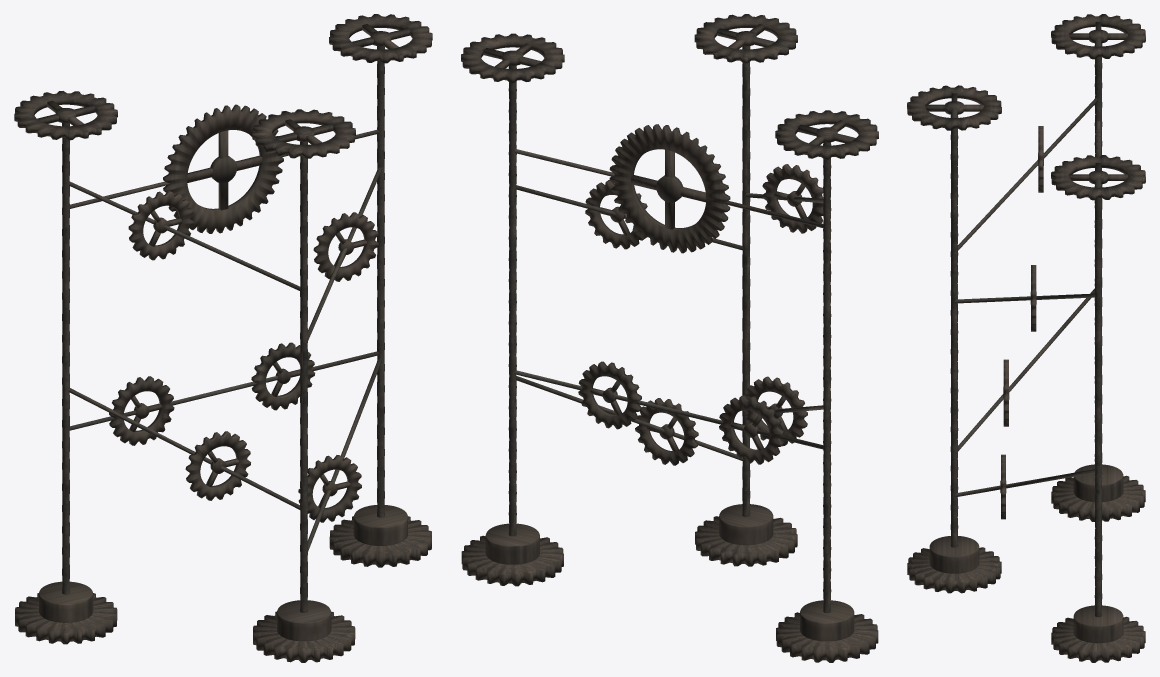
The model's file is hy3d-esc-055.glb.
The picture shows the model from 3 angles, left to right: view 1: azimuth 30°, elevation 25°; view 2: azimuth 150°, elevation 25°; view 3: azimuth 270°, elevation 25°; orthographic projection. The views are drawn at different scales.
Parts seen in each view (by area): view 1: world; view 2: world; view 3: world.
Part boxes in pixels (box(x1,y1,x2,y2)): world: box(14, 14, 432, 662); world: box(461, 14, 878, 662); world: box(907, 14, 1145, 662).
Bounding box in the file's own units: 0.624 × 0.7526 × 0.3479.
1 material, 1 textured.
